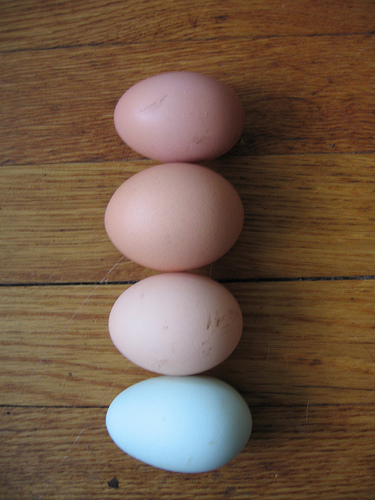egg: (98, 376, 260, 478), (102, 160, 245, 270), (107, 270, 245, 375), (111, 65, 233, 162)
